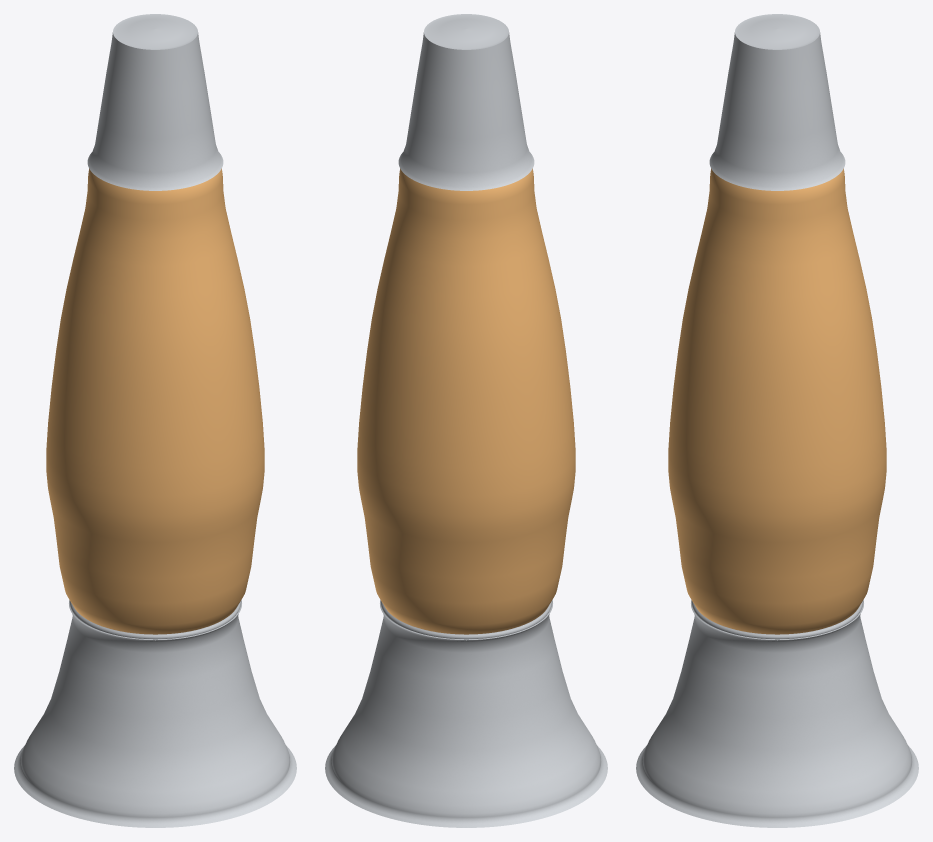
Rendered from piece_lavalamp.fbx.
3 renders of one model, left to right at view 1: azimuth 30°, elevation 25°; view 2: azimuth 150°, elevation 25°; view 3: azimuth 270°, elevation 25°, orthographic.
Parts seen in each view (by area): view 1: piece_lavalamp; view 2: piece_lavalamp; view 3: piece_lavalamp.
Boxes of the visible parts, bbox=[...] form: piece_lavalamp: bbox=[14, 14, 296, 827]; piece_lavalamp: bbox=[325, 14, 607, 827]; piece_lavalamp: bbox=[636, 14, 918, 827].
Size of the model in its own units: 0.1606 by 0.4643 by 0.1606.
